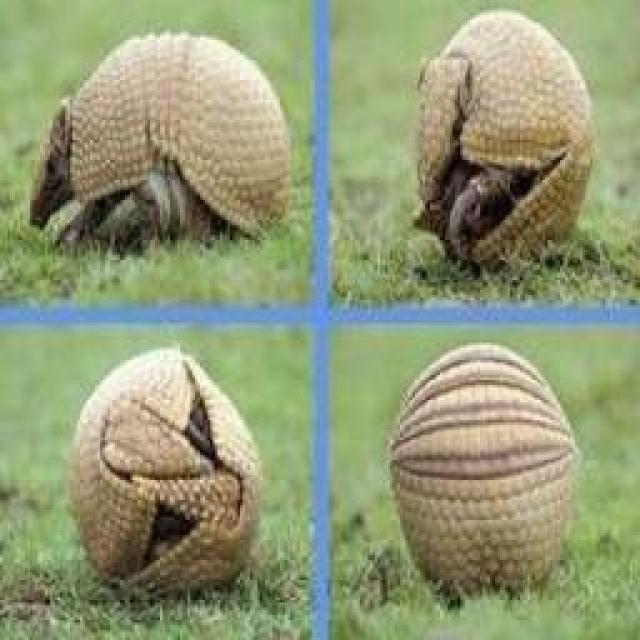not_pig: (28, 27, 290, 255), (62, 345, 262, 605), (385, 340, 580, 605), (410, 5, 595, 275)
